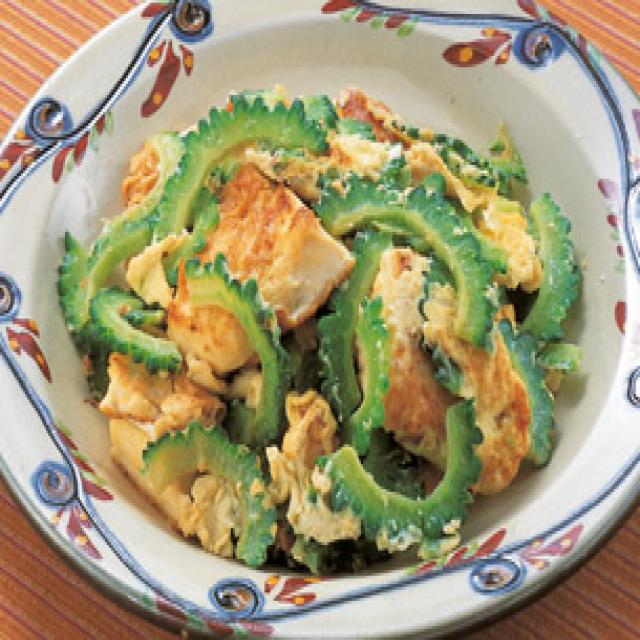熟制海鲜: (25, 6, 632, 612)
